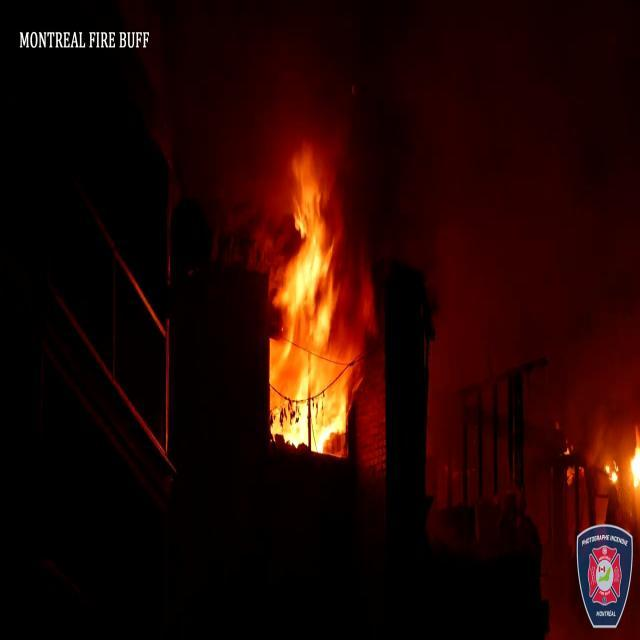Fire: (260, 130, 373, 452), (626, 426, 640, 501)
